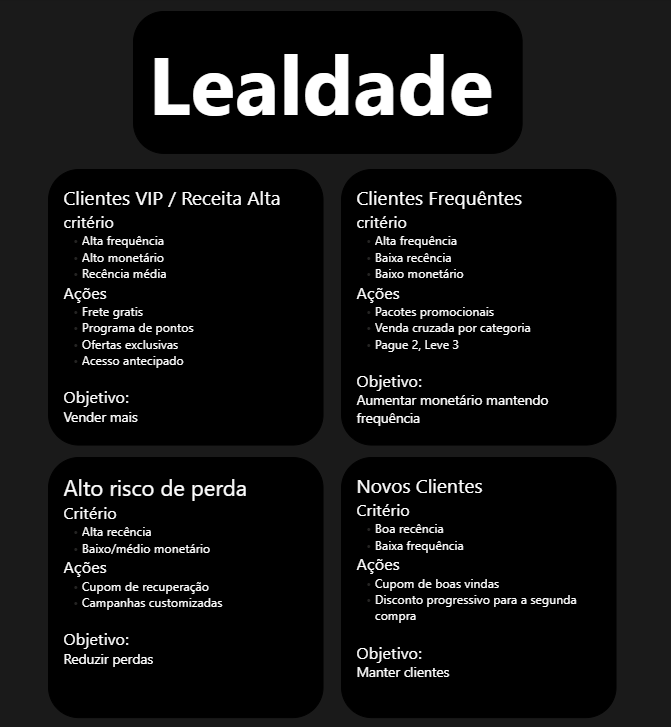

What the dashboard file says about the page in this screenshot:
{"tool":"powerbi","page":{"name":"Lealdade","canvas":[1280,720],"ordinal":2},"visuals":[{"type":"textbox","box":[367.7,167.3,268.4,269.4],"z":0},{"type":"textbox","box":[652.6,167.3,268.4,269.4],"z":1000},{"type":"textbox","box":[450.3,13.6,379.3,139.1],"z":2000},{"type":"textbox","box":[652.6,447.4,268.4,253.9],"z":3000},{"type":"textbox","box":[367.7,447.4,268.4,253.9],"z":4000}]}

Visuals, with their boxes on the page's 1280x720 design canvas (x1, y1, x2, y2). These are canvas units, not pixel positions in the 671x727 screenshot, which may show the page scaled, cropped or inside an application window:
textbox: left=368, top=167, right=636, bottom=437
textbox: left=653, top=167, right=921, bottom=437
textbox: left=450, top=14, right=830, bottom=153
textbox: left=653, top=447, right=921, bottom=701
textbox: left=368, top=447, right=636, bottom=701
